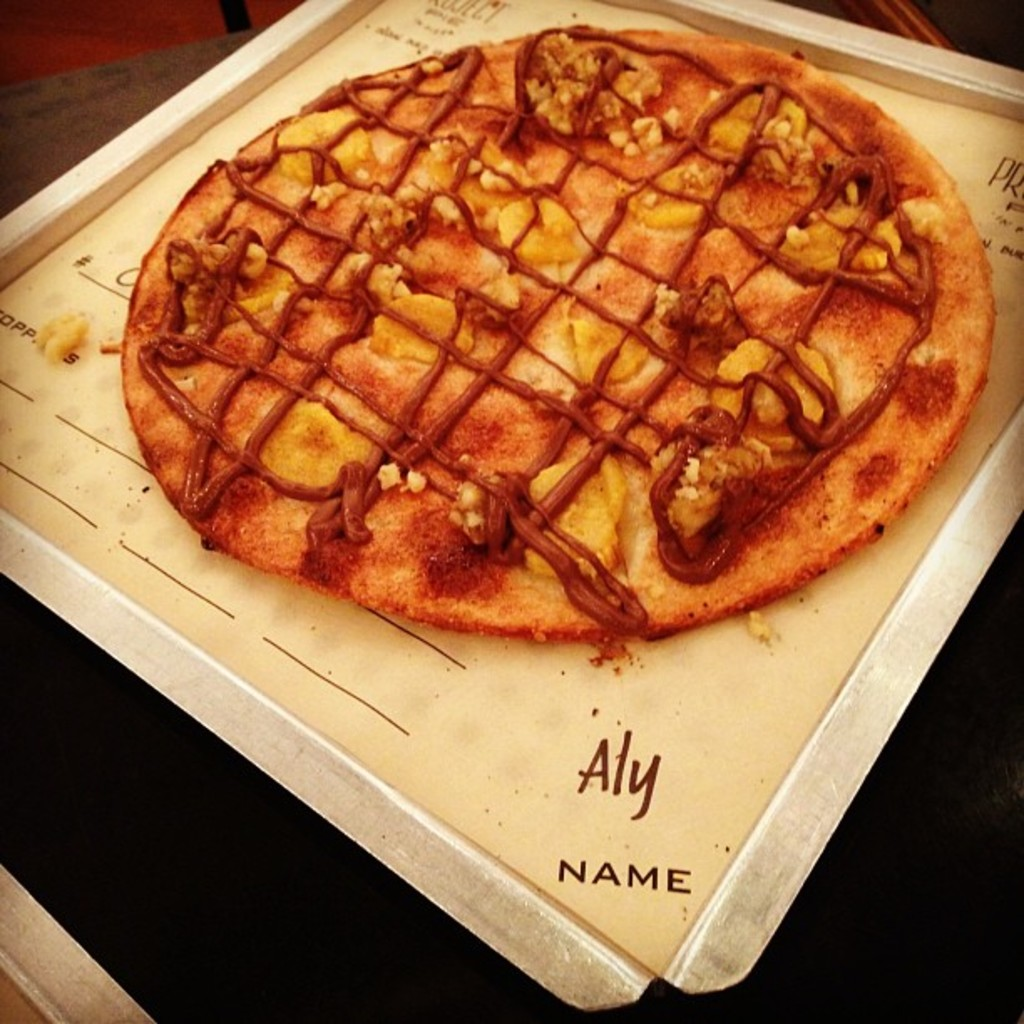Pizza: (93, 11, 1005, 645)
